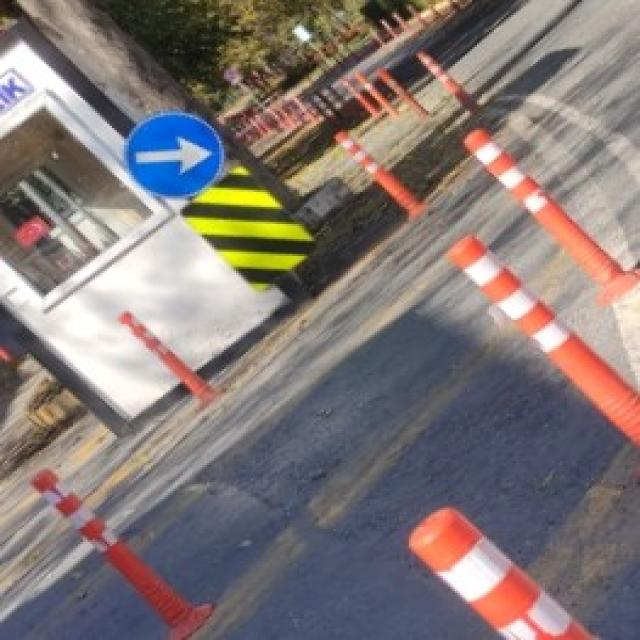Turn Right: (125, 112, 232, 201)
